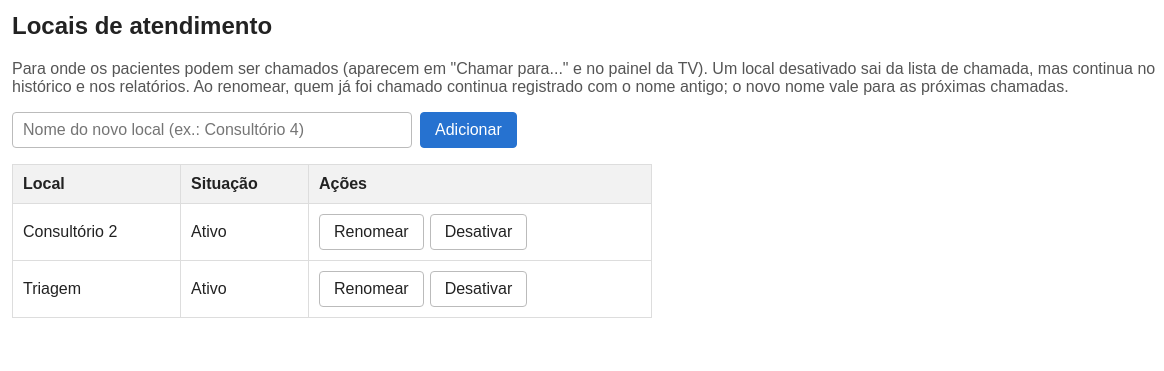
Test: nome repetido: o erro aparece embaixo do campo, e o campo continua aberto
This screenshot has width=1164, height=371.
expect the cell "Consultório 2" is shown: met, box [12,203,181,260]
Click the button "Renomear" in the row of "Consultório 2" at [371, 232], box [319,214,424,250]
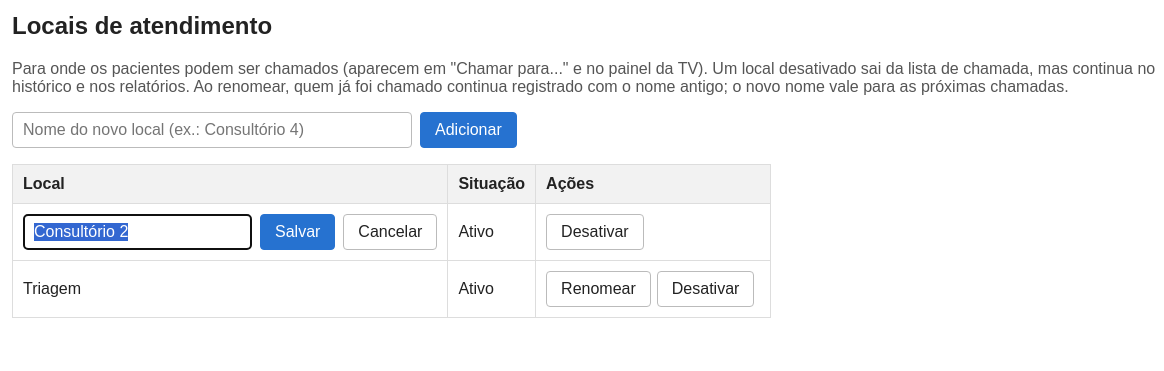
Type "triagem" into the field named "Novo nome para Consultório 2" at [138, 232], box [23,214,252,250]
Then press Enter
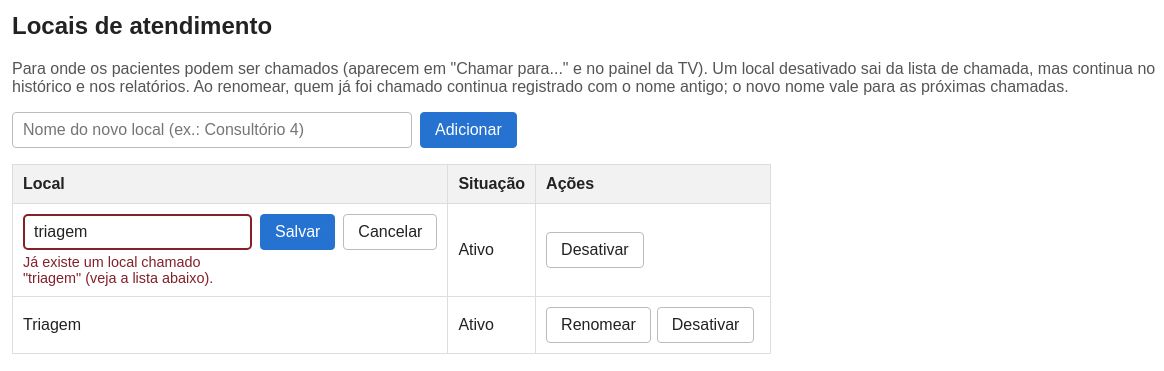
expect the text "Já existe um local chamado \"triagem\" (veja a lista abaixo)." is shown: met, box [23,254,213,286]
